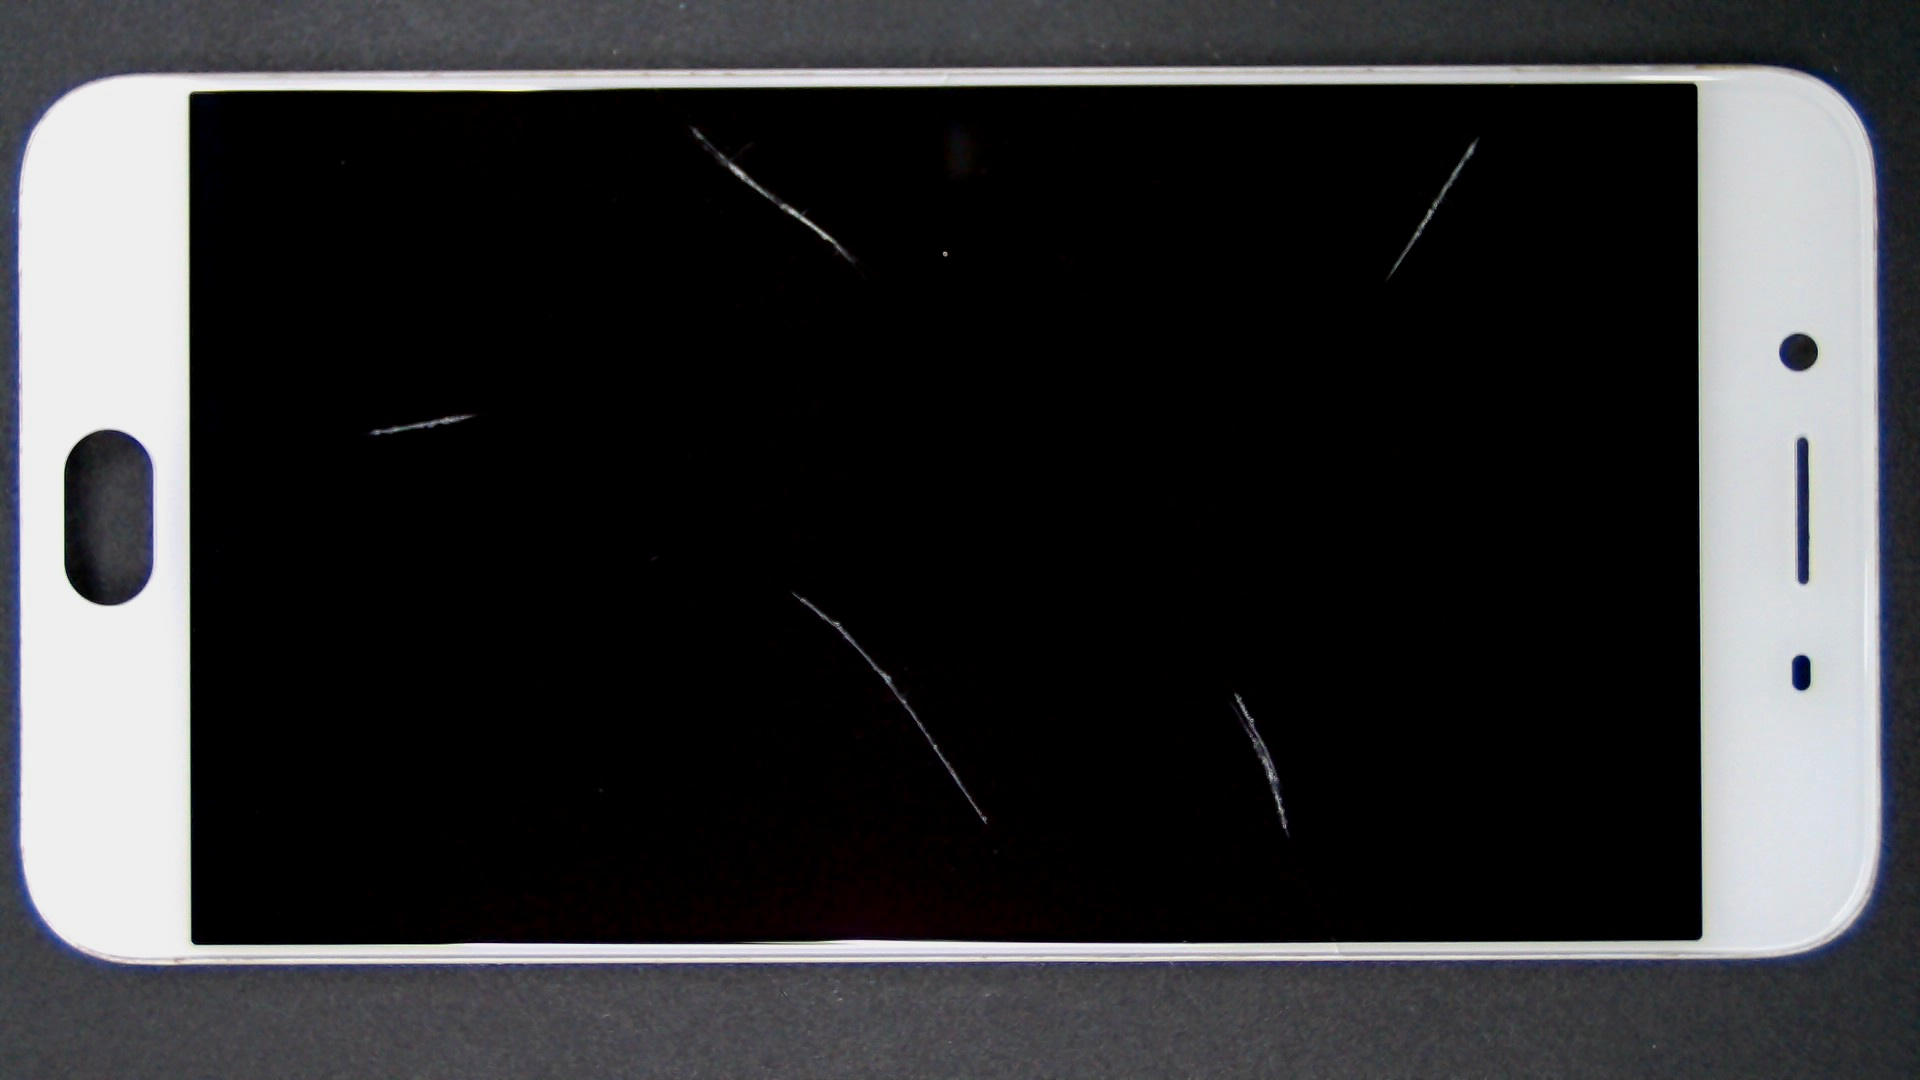oil: (620, 347, 1857, 1042), (397, 295, 1188, 887), (239, 206, 715, 618), (740, 66, 1920, 206), (345, 62, 1036, 190)
